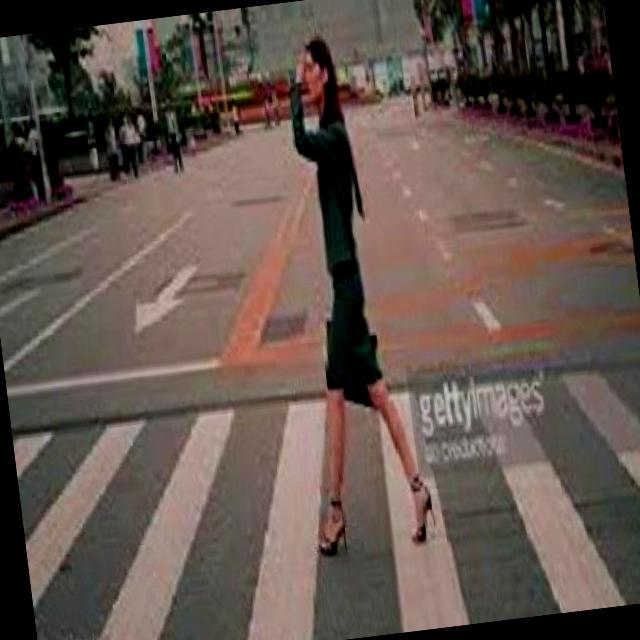Person: (244, 22, 447, 563)
